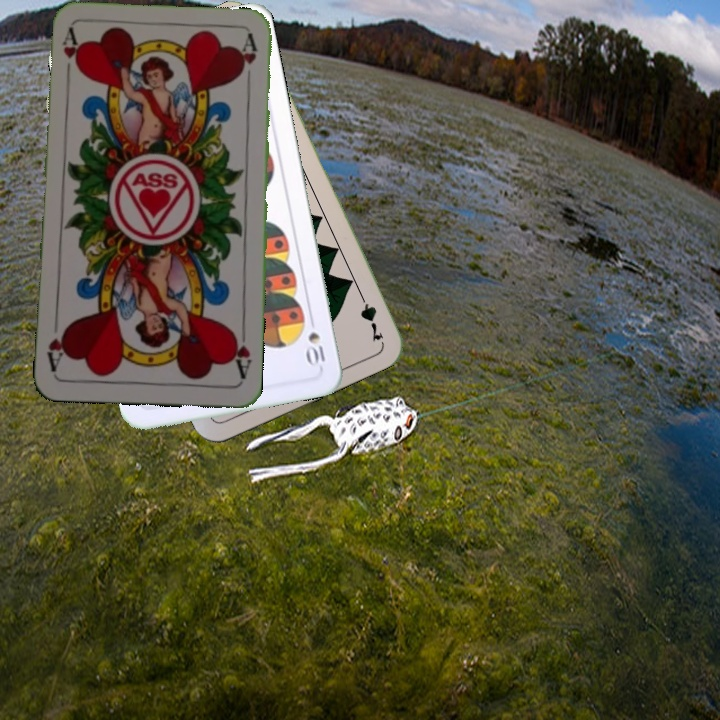G7: (354, 286, 387, 344)
HA: (227, 323, 254, 382), (58, 26, 82, 85)
S10: (304, 328, 328, 369)
